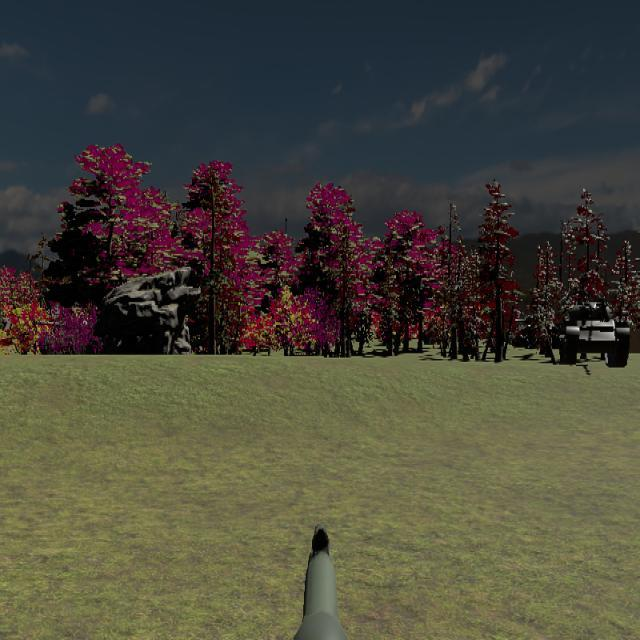Tank: (558, 299, 631, 368)
